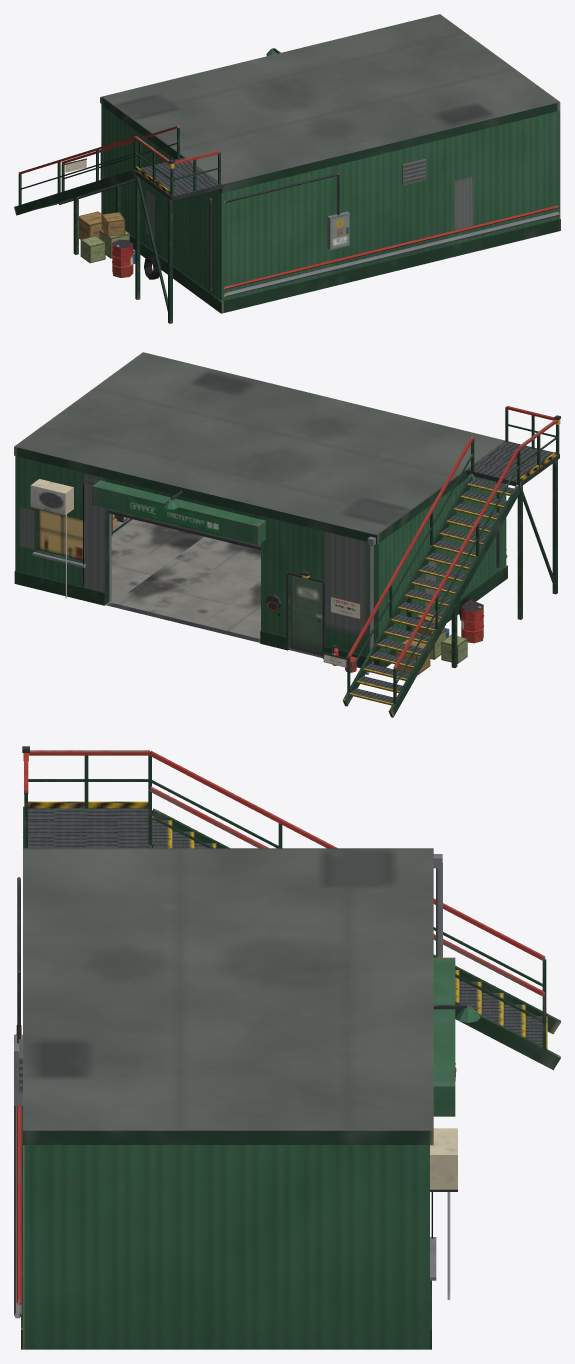
File: Garage.fbx
The picture shows the model from 3 angles, top to bottom: view 1: azimuth 30°, elevation 25°; view 2: azimuth 150°, elevation 25°; view 3: azimuth 270°, elevation 25°; orthographic projection. The views are drawn at different scales.
Parts seen in each view (by area): view 1: Garage; view 2: Garage; view 3: Garage.
Boxes of the visible parts, bbox=[...] form: Garage: bbox=[14, 14, 560, 323]; Garage: bbox=[14, 352, 560, 717]; Garage: bbox=[14, 746, 560, 1349].
Size of the model in its own units: 12.07 by 4.96 by 8.6.
